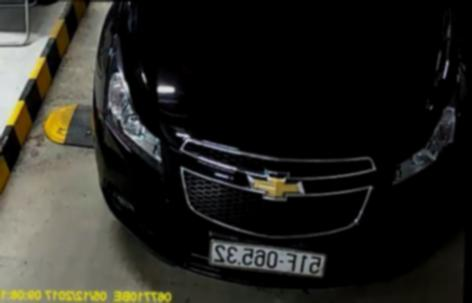License_Plate: (210, 242, 329, 278)
